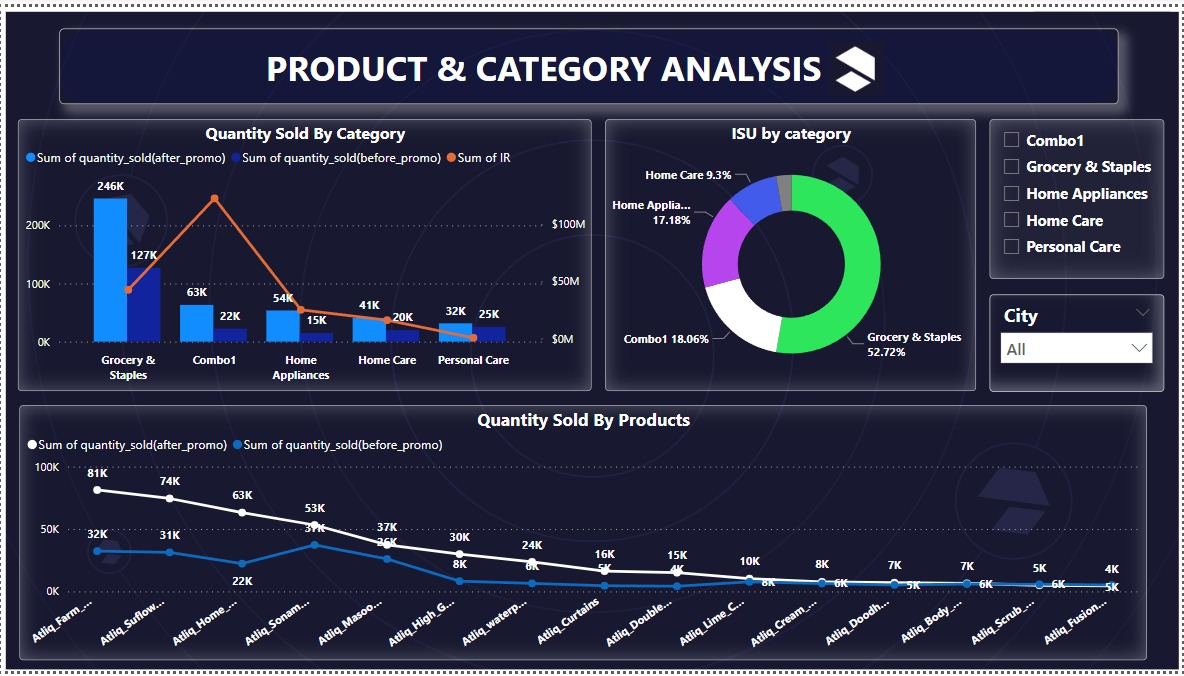

The page's visual inventory and layout, read from the dashboard file:
{"tool":"powerbi","page":{"name":"Product & Category Analysis","canvas":[1280,720],"ordinal":3},"visuals":[{"type":"image","box":[0,0,1281.8,722.7],"z":0},{"type":"image","box":[1109.1,0,170.5,170.5],"z":1000},{"type":"shape","box":[63.6,22.7,1147.7,81.8],"z":2000},{"type":"textbox","box":[247.3,34.5,683.6,70.9],"z":3000},{"type":"image","box":[889.1,30.9,78.2,70.9],"z":4000},{"type":"lineChart","title":"Quantity Sold By Products","fields":{"Category":["dim_products.product_name"],"Y":["Sum(fact_events.quantity_sold(after_promo))","Sum(fact_events.quantity_sold(before_promo))"]},"box":[20,430.9,1221.8,276.4],"z":5000},{"type":"lineClusteredColumnComboChart","title":"Quantity Sold By Category","fields":{"Category":["dim_products.category"],"Y":["Sum(fact_events.quantity_sold(after_promo))","Sum(fact_events.quantity_sold(before_promo))"],"Y2":["Sum(fact_events.IR)"]},"box":[18.2,121.8,621.8,294.5],"z":6000},{"type":"slicer","fields":{"Values":["dim_products.category"]},"box":[1070.9,121.8,189.1,172.7],"z":7000},{"type":"donutChart","title":"ISU by category","fields":{"Category":["dim_products.category"],"Y":["Sum(fact_events.ISU)"]},"box":[654.5,121.8,401.8,294.5],"z":8000},{"type":"slicer","fields":{"Values":["dim_stores.city"]},"box":[1070.9,310.9,189.1,105.5],"z":9000}]}

Visuals, with their boxes in screenshot pixels (x1, y1, x2, y2), scaled from the page's 1280x720 canvas onto the 1184x676 screenshot:
image: x1=0 y1=0 x2=1183 y2=675
image: x1=1026 y1=0 x2=1183 y2=160
shape: x1=59 y1=21 x2=1120 y2=98
textbox: x1=229 y1=32 x2=861 y2=99
image: x1=822 y1=29 x2=895 y2=96
"Quantity Sold By Products" lineChart: x1=18 y1=405 x2=1149 y2=664
"Quantity Sold By Category" lineClusteredColumnComboChart: x1=17 y1=114 x2=592 y2=391
slicer - dim_products.category: x1=991 y1=114 x2=1166 y2=277
"ISU by category" donutChart: x1=605 y1=114 x2=977 y2=391
slicer - dim_stores.city: x1=991 y1=292 x2=1166 y2=391
